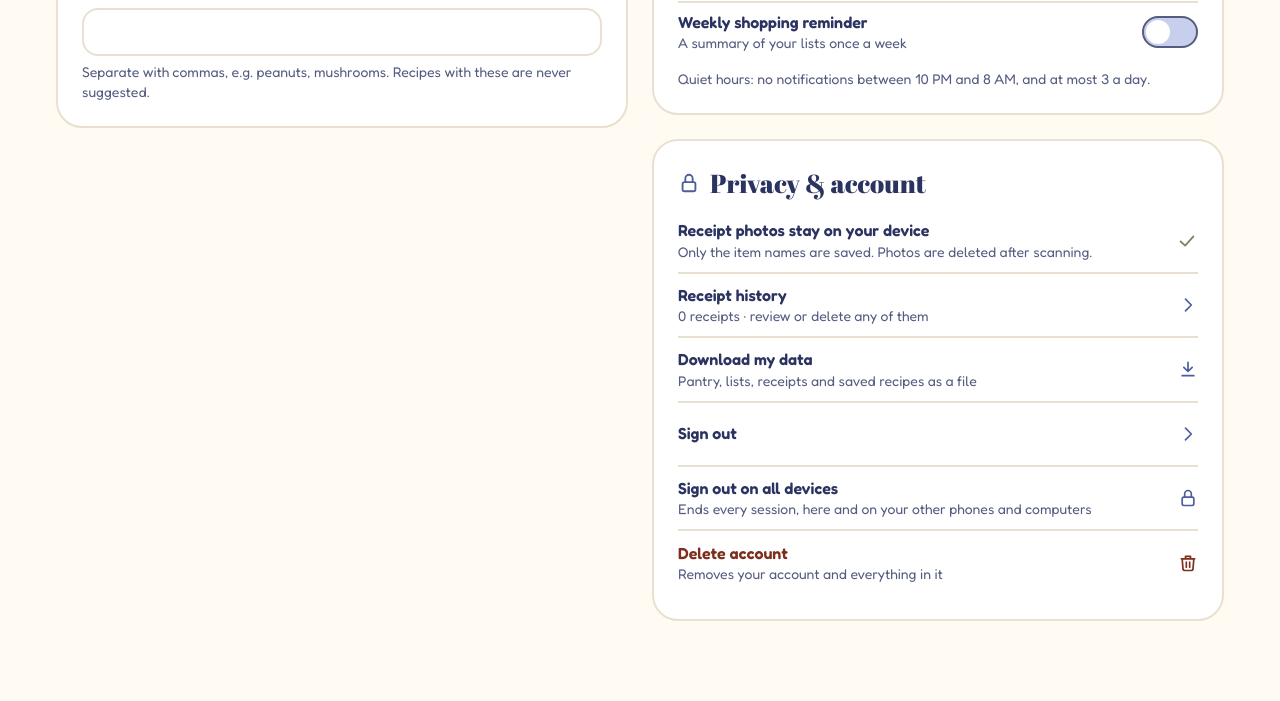
ProfilePage › SEC-9 PRO-6 Delete account after 15 minutes asks to sign in again first
(page scrolled)
Click the button "Delete account Removes your account and everything in it": (938, 563) 678,531 -> 1198,595
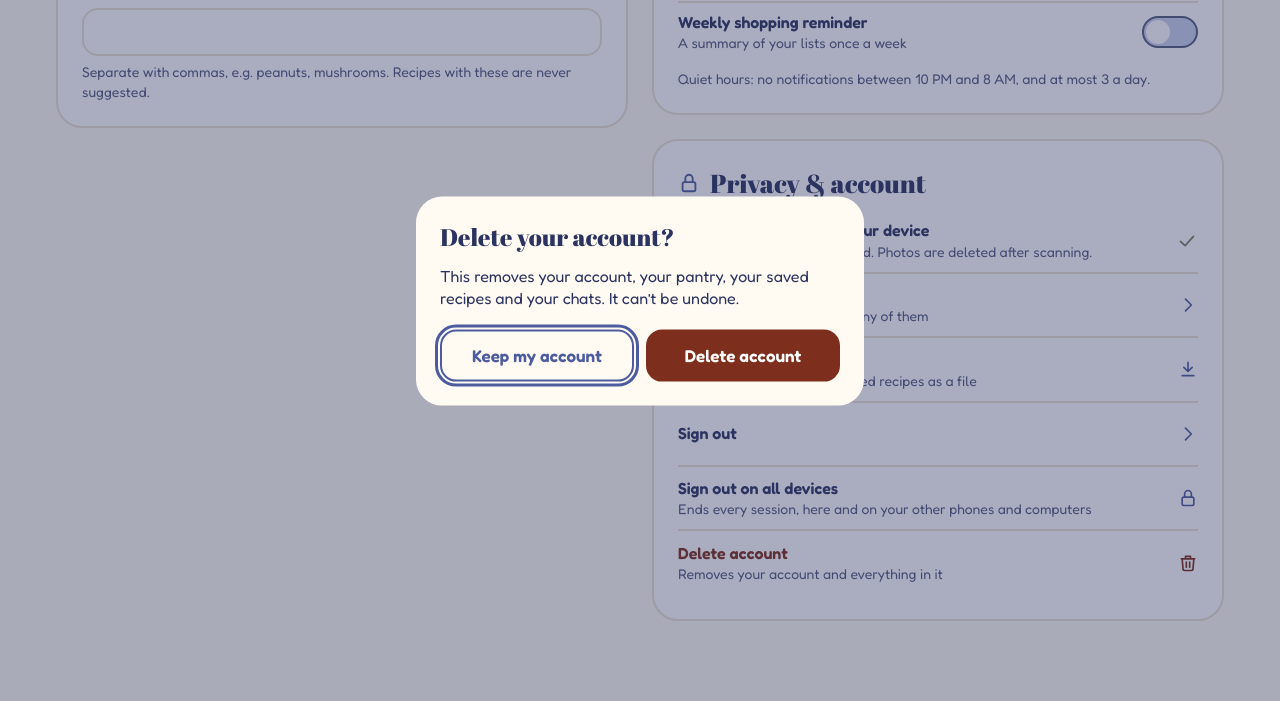
Click the button "Delete account": (743, 355) 646,329 -> 840,381
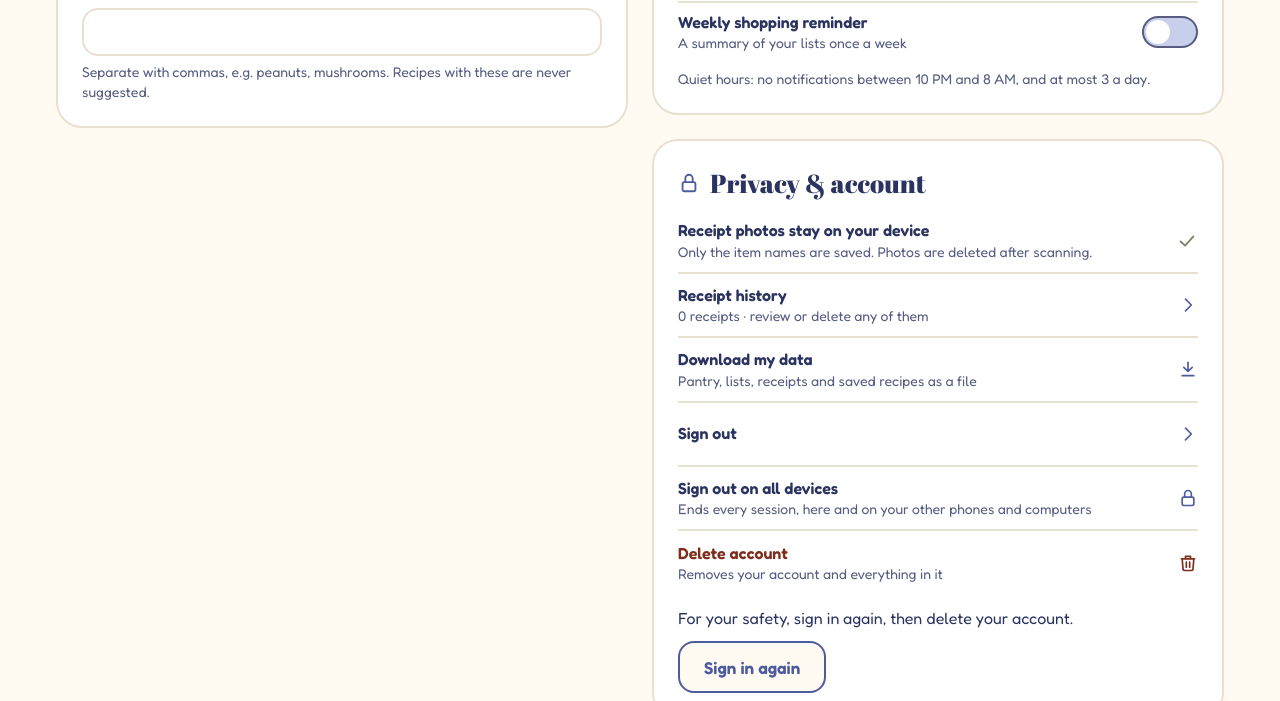
expect the message shows "For your safety, sign in again, then delete your account.": met, box 678,608 -> 1073,628
expect the button "Sign in again" is shown: met, box 678,641 -> 826,693
